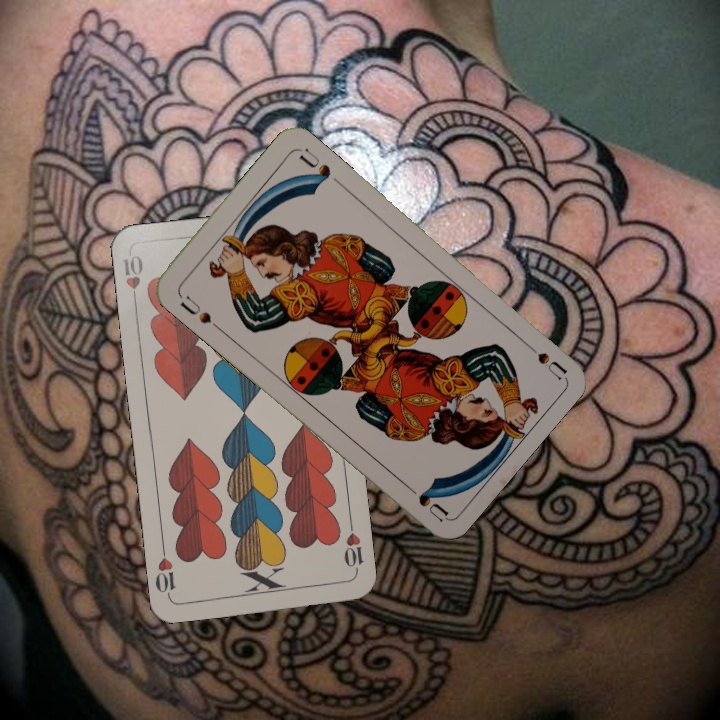H10: (339, 517, 367, 576), (119, 251, 146, 309)
SU: (517, 334, 569, 382), (175, 291, 224, 333)
